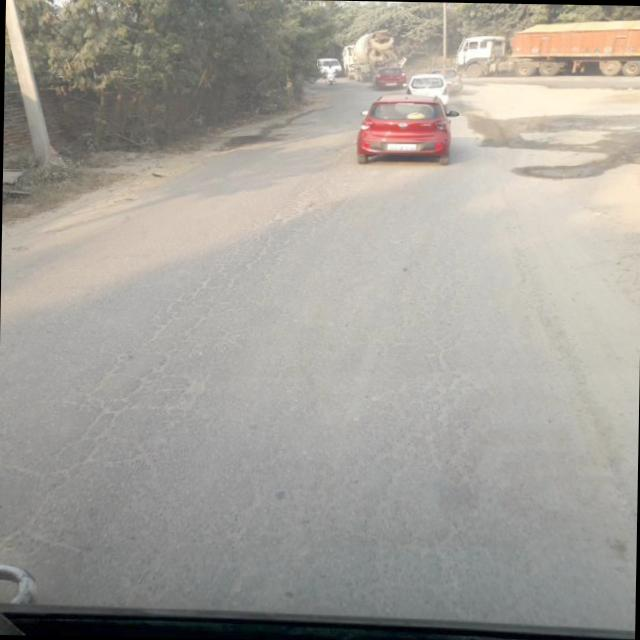crack: (2, 172, 568, 584)
